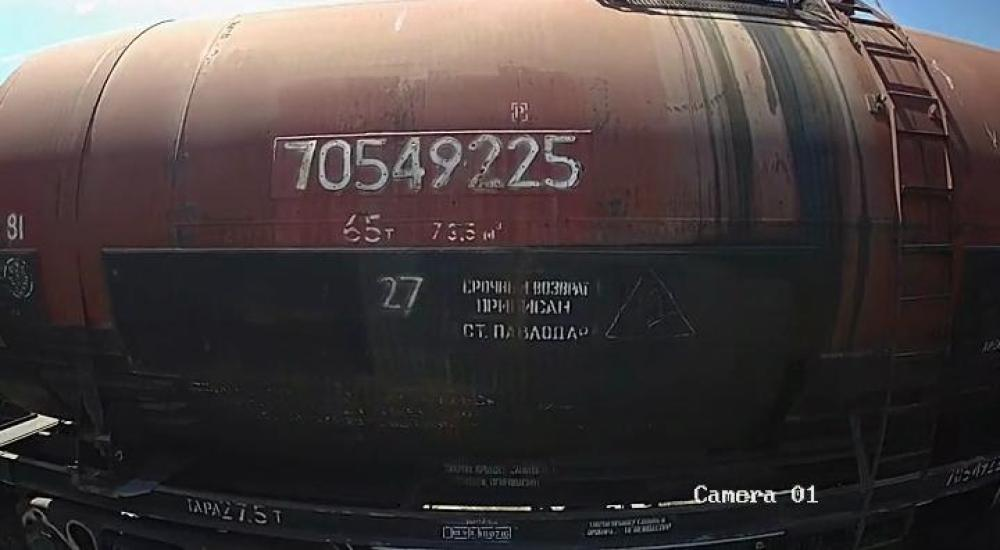Wagon-number: (282, 130, 584, 195)
